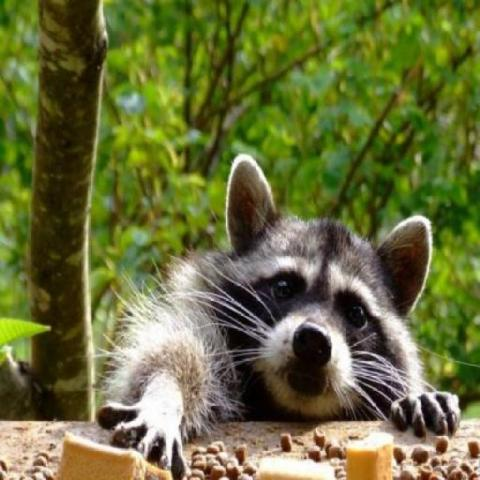small_animal: (95, 152, 463, 476)
